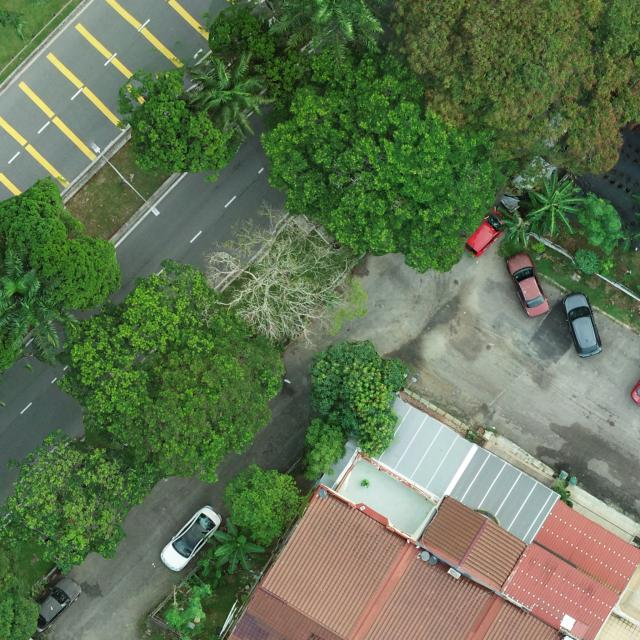banana_tree2: (525, 168, 590, 234), (213, 517, 267, 573), (196, 536, 227, 590), (497, 205, 537, 245), (621, 221, 640, 255)
tree: (259, 43, 503, 273), (55, 257, 287, 484), (383, 0, 640, 177), (203, 200, 367, 348), (0, 427, 153, 576), (0, 178, 122, 312), (115, 68, 244, 183), (308, 339, 410, 457), (207, 3, 312, 111), (0, 246, 82, 368), (265, 0, 386, 74), (186, 49, 278, 141), (222, 462, 301, 546), (301, 417, 348, 482), (164, 581, 215, 640), (577, 192, 622, 252), (574, 248, 600, 276)
